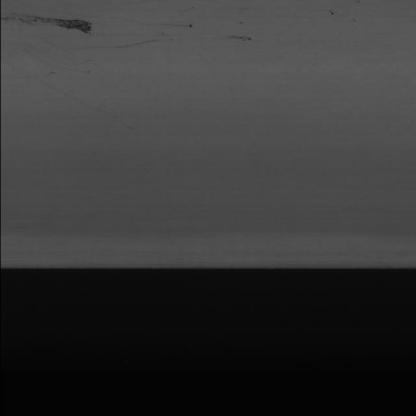inclusion: (33, 12, 103, 34), (224, 28, 266, 46), (153, 18, 196, 29)
